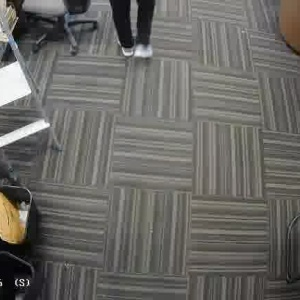person: (100, 0, 158, 70)
